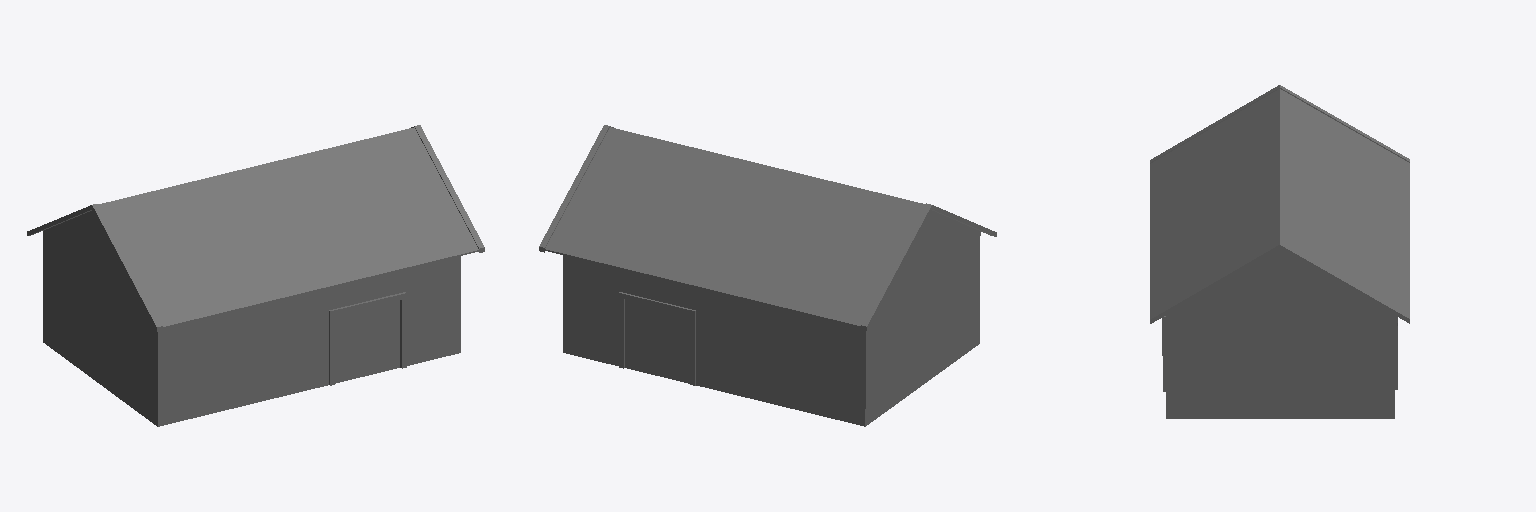
File: casa3.obj
3 renders of one model, left to right at view 1: azimuth 30°, elevation 25°; view 2: azimuth 150°, elevation 25°; view 3: azimuth 270°, elevation 25°, orthographic.
Visible parts, largest first — view 1: wh_anb_dach005, wh_anbau001, wh_anb_dach007, stalltor007, wh_anb_dach006; view 2: wh_anb_dach005, wh_anbau001, wh_anb_dach007, stalltor008, wh_anb_dach006; view 3: wh_anb_dach005, wh_anbau001, wh_anb_dach006, wh_anb_dach007.
Boxes of the visible parts, x1=… form: wh_anb_dach005: x1=98, y1=127, x2=482, y2=329; wh_anbau001: x1=43, y1=210, x2=460, y2=426; wh_anb_dach007: x1=27, y1=204, x2=162, y2=331; stalltor007: x1=329, y1=292, x2=406, y2=385; wh_anb_dach006: x1=411, y1=125, x2=484, y2=252; wh_anb_dach005: x1=541, y1=127, x2=925, y2=328; wh_anbau001: x1=563, y1=211, x2=980, y2=426; wh_anb_dach007: x1=861, y1=203, x2=996, y2=330; stalltor008: x1=619, y1=292, x2=695, y2=385; wh_anb_dach006: x1=539, y1=125, x2=613, y2=252; wh_anb_dach005: x1=1150, y1=89, x2=1409, y2=316; wh_anbau001: x1=1166, y1=249, x2=1394, y2=418; wh_anb_dach006: x1=1150, y1=242, x2=1409, y2=323; wh_anb_dach007: x1=1150, y1=85, x2=1409, y2=163.
Size of the model in its own units: 9.9 by 5.27 by 6.79.